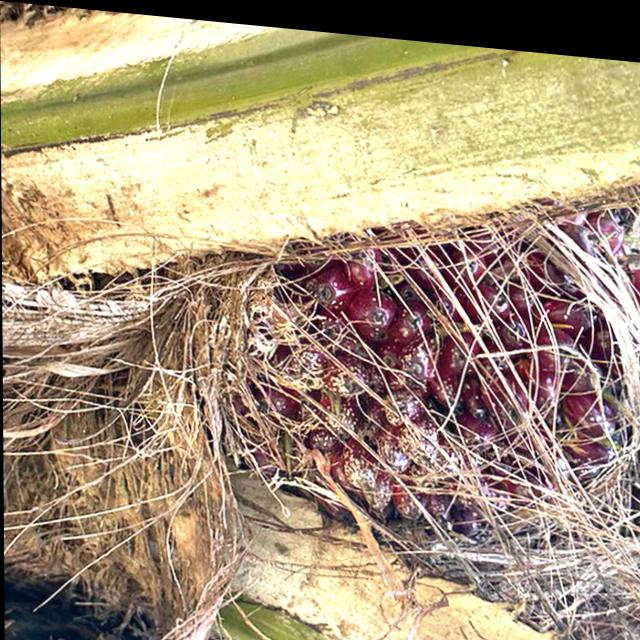ripe: (230, 145, 640, 594)
